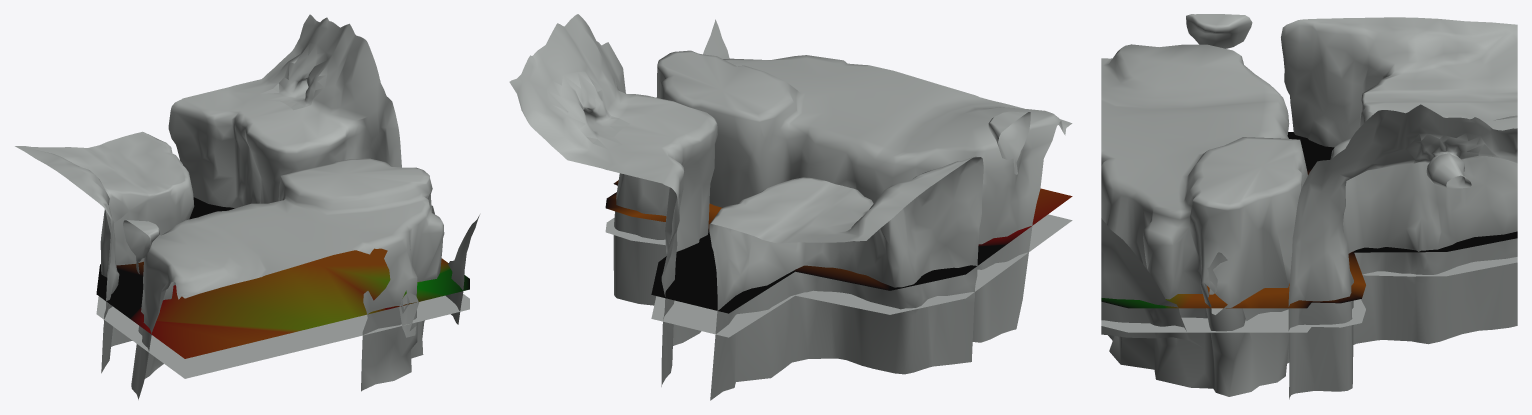
The picture shows the model from 3 angles, left to right: view 1: azimuth 30°, elevation 25°; view 2: azimuth 150°, elevation 25°; view 3: azimuth 270°, elevation 25°; orthographic projection. The views are drawn at different scales.
Visible parts, largest first — view 1: G:\FFXIV-MapTools\exports\w1f4\bg\ffxiv\wil_w1\fld\w1f4\bgpl (×14); view 2: G:\FFXIV-MapTools\exports\w1f4\bg\ffxiv\wil_w1\fld\w1f4\bgpl (×14); view 3: G:\FFXIV-MapTools\exports\w1f4\bg\ffxiv\wil_w1\fld\w1f4\bgpl (×17).
Part boxes in pixels (x1,y1,x2,y2): G:\FFXIV-MapTools\exports\w1f4\bg\ffxiv\wil_w1\fld\w1f4\bgpl (×14): (15,14,479,399); G:\FFXIV-MapTools\exports\w1f4\bg\ffxiv\wil_w1\fld\w1f4\bgpl (×14): (509,14,1072,400); G:\FFXIV-MapTools\exports\w1f4\bg\ffxiv\wil_w1\fld\w1f4\bgpl (×17): (1101,14,1517,399).
Bounding box in the file's own units: 128 × 101 × 128.
